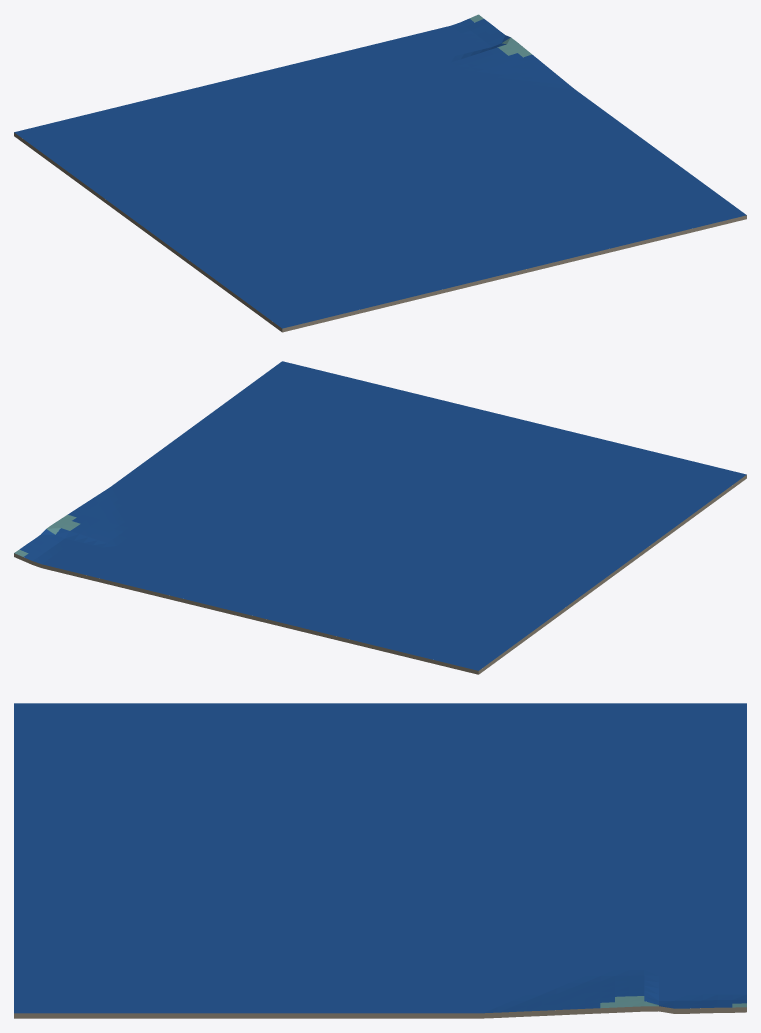
The model's file is parca_-2_-9-uzak.glb.
3 views of the same model, one above another, from view 1: azimuth 30°, elevation 25°; view 2: azimuth 150°, elevation 25°; view 3: azimuth 270°, elevation 25° (orthographic). The views are drawn at different scales.
Parts seen in each view (by area): view 1: parca_-2_-9_arazi_uzak; view 2: parca_-2_-9_arazi_uzak; view 3: parca_-2_-9_arazi_uzak.
Part boxes in pixels (bbox=[...]): parca_-2_-9_arazi_uzak: bbox=[14, 14, 746, 332]; parca_-2_-9_arazi_uzak: bbox=[14, 361, 746, 674]; parca_-2_-9_arazi_uzak: bbox=[14, 703, 746, 1018].
Size of the model in its own units: 1000 by 18.62 by 1000.
